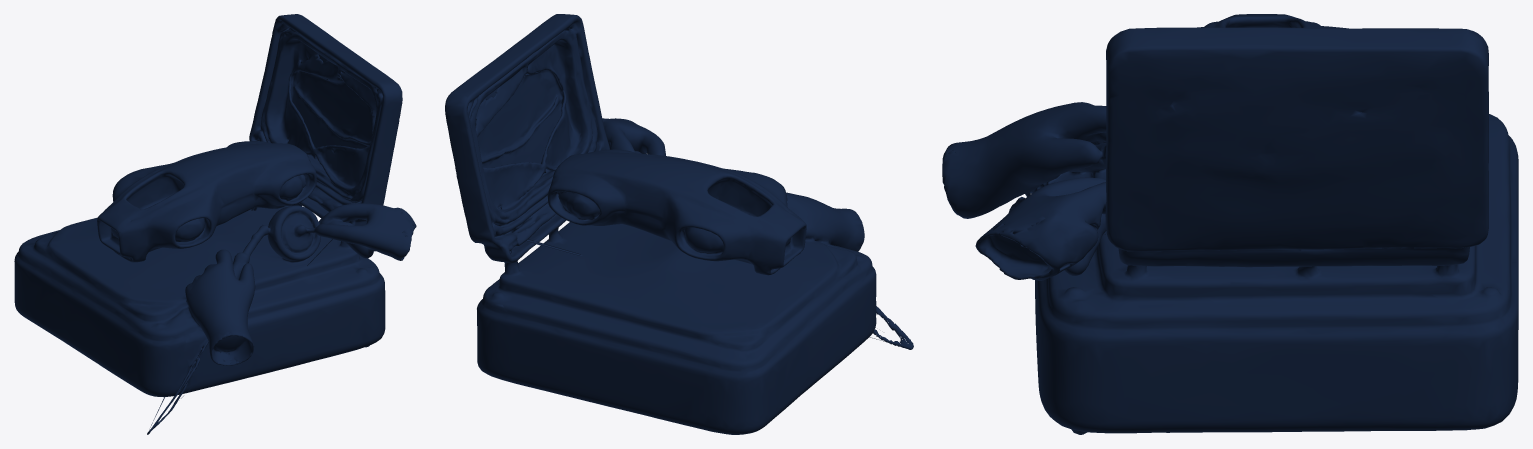
The model's file is reveal.glb.
3 renders of one model, left to right at view 1: azimuth 30°, elevation 25°; view 2: azimuth 150°, elevation 25°; view 3: azimuth 270°, elevation 25°, orthographic. The views are drawn at different scales.
Parts seen in each view (by area): view 1: tmp682fjc65.ply; view 2: tmp682fjc65.ply; view 3: tmp682fjc65.ply.
Part boxes in pixels (x1=…): tmp682fjc65.ply: x1=14, y1=14, x2=416, y2=434; tmp682fjc65.ply: x1=445, y1=14, x2=913, y2=434; tmp682fjc65.ply: x1=942, y1=14, x2=1518, y2=434.
Bounding box in the file's own units: 1.96 × 1.7 × 1.95.
